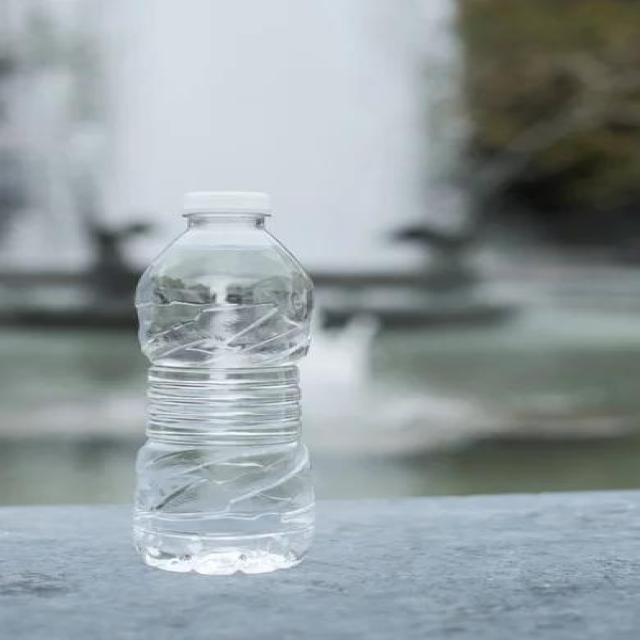bottle: (116, 179, 327, 586)
